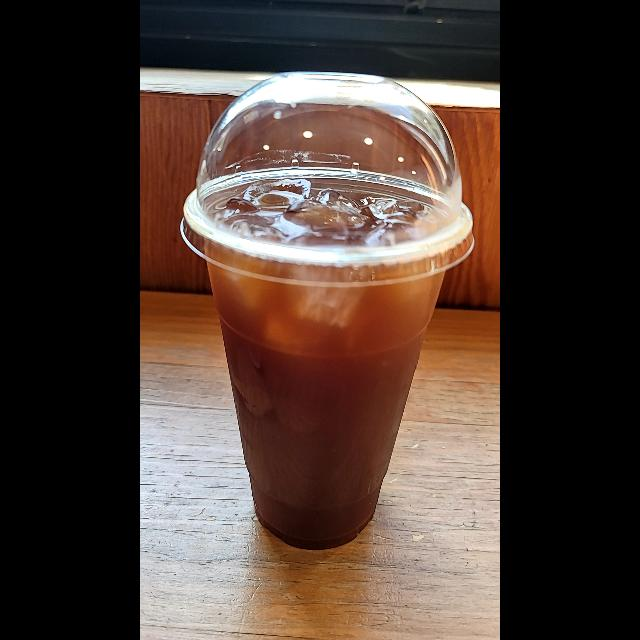plastic_cup: (172, 68, 478, 552)
plastic_cup_lid: (176, 70, 479, 286)
